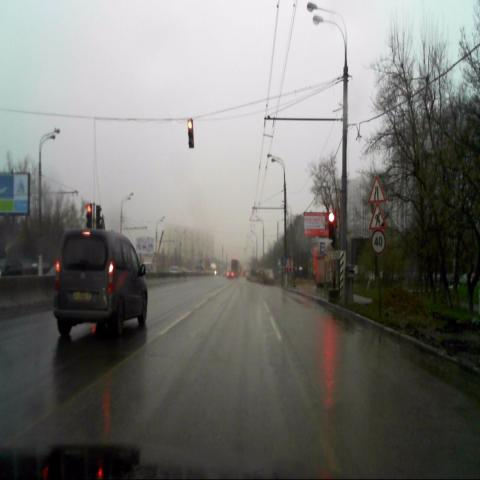1_20_2: (368, 176, 386, 203)
1_25: (368, 204, 387, 230)
3_24: (372, 229, 386, 254)
